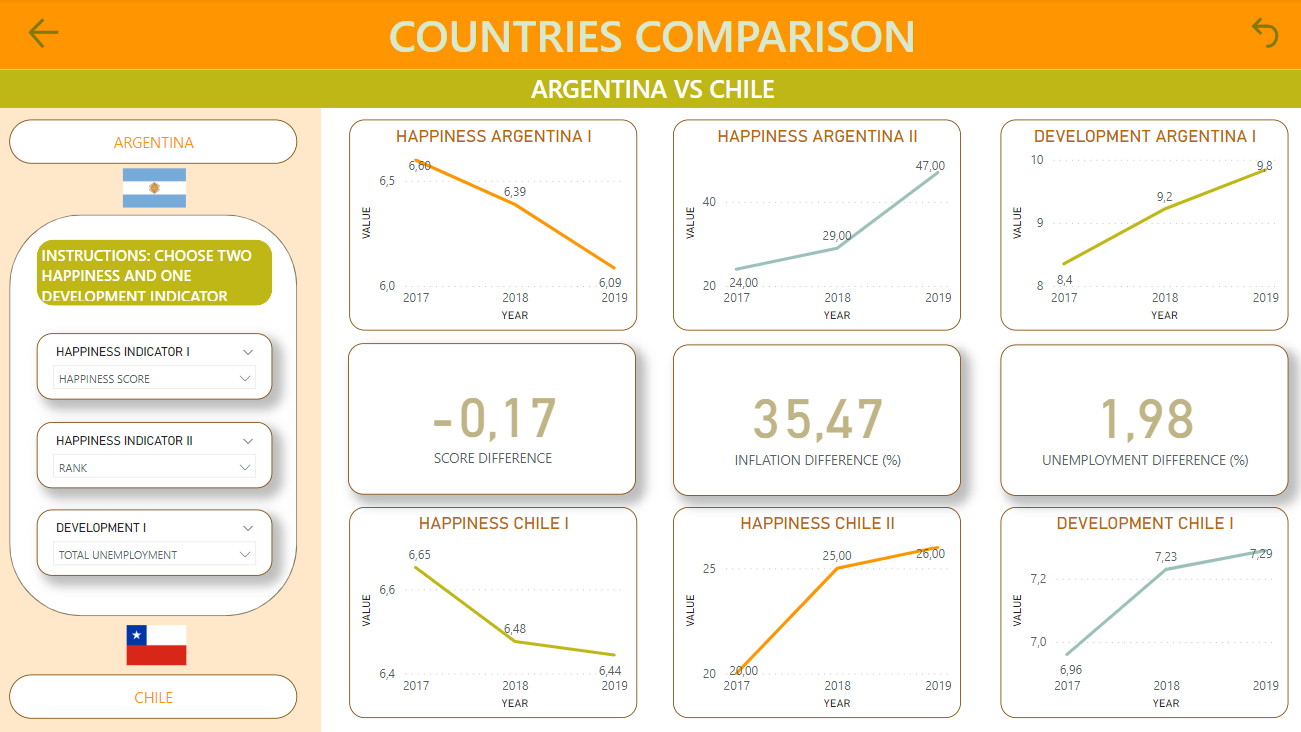

What the dashboard file says about the page in this screenshot:
{"tool":"powerbi","page":{"name":"COUNTRIES COMPARISON","canvas":[1280,720],"ordinal":6},"visuals":[{"type":"shape","box":[0,108.1,316.3,611.9],"z":0},{"type":"shape","box":[11.1,212.3,281.3,392.6],"z":1000},{"type":"slicer","fields":{"Values":["DEVELOPMENT_INDEX.COUNTRY"]},"box":[1103,162.1,109.7,73.1],"z":2000},{"type":"slicer","fields":{"Values":["DEVELOPMENT_INDEX.COUNTRY"]},"box":[1066.5,565.8,109.7,73.1],"z":3000},{"type":"slicer","fields":{"Values":["HAPPINESS_INDEX.COUNTRY"]},"box":[427.5,184.4,109.7,73.1],"z":4000},{"type":"slicer","fields":{"Values":["HAPPINESS_INDEX.COUNTRY"]},"box":[449.8,565.8,109.7,73.1],"z":5000},{"type":"shape","box":[0,0,1280.5,70.4],"z":6000},{"type":"shape","box":[0,70.4,1280.5,37.4],"z":7000},{"type":"shape","box":[11.1,119.2,281.3,42.9],"z":8000},{"type":"shape","box":[11.1,662.8,281.3,42.9],"z":9000},{"type":"lineChart","title":"HAPPINESS CHILE I","fields":{"Y":["Avg(HAPPINESS_INDEX.VALUE_HAPPINESS)"],"Category":["HAPPINESS_INDEX.YEAR"]},"box":[343.3,499.1,281.3,206.6],"z":10000},{"type":"lineChart","title":"HAPPINESS CHILE II","fields":{"Y":["Avg(HAPPINESS_INDEX.VALUE_HAPPINESS)"],"Category":["HAPPINESS_INDEX.YEAR"]},"box":[659.6,499.1,281.3,206.6],"z":11000},{"type":"lineChart","title":"HAPPINESS ARGENTINA I","fields":{"Y":["Avg(HAPPINESS_INDEX.VALUE_HAPPINESS)"],"Category":["HAPPINESS_INDEX.YEAR"]},"box":[343.3,119.2,281.3,206.6],"z":12000},{"type":"lineChart","title":"HAPPINESS ARGENTINA II","fields":{"Y":["Avg(HAPPINESS_INDEX.VALUE_HAPPINESS)"],"Category":["HAPPINESS_INDEX.YEAR"]},"box":[659.6,119.2,281.3,206.6],"z":13000},{"type":"lineChart","title":"DEVELOPMENT ARGENTINA I","fields":{"Y":["Avg(DEVELOPMENT_INDEX.VALUE_DEVELOPMENT)"],"Category":["DEVELOPMENT_INDEX.YEAR"]},"box":[980.7,119.2,281.3,206.6],"z":14000},{"type":"lineChart","title":"DEVELOPMENT CHILE I","fields":{"Y":["Avg(DEVELOPMENT_INDEX.VALUE_DEVELOPMENT)"],"Category":["DEVELOPMENT_INDEX.YEAR"]},"box":[980.7,499.1,281.3,206.6],"z":15000},{"type":"card","fields":{"Values":["HAPPINESS_INDEX.SCORE DIFFERENCE"]},"box":[341.7,338.5,281.3,147.8],"z":16000},{"type":"card","fields":{"Values":["DEVELOPMENT_INDEX.INFLATION DIFFERENCE"]},"box":[659.6,340.1,281.3,147.8],"z":17000},{"type":"card","fields":{"Values":["DEVELOPMENT_INDEX.UNEMPLOYMENT DIFFERENCE"]},"box":[980.7,340.1,281.3,147.8],"z":18000},{"type":"slicer","fields":{"Values":["DEVELOPMENT_INDEX.DEVELOPMENT_INDICATOR.DEVELOPMENT_INDICATOR"]},"box":[38.1,501.6,230.5,65.2],"z":19000},{"type":"slicer","fields":{"Values":["HAPPINESS_INDEX.HAPPINESS_INDICATOR.HAPPINESS_INDICATOR"]},"box":[38.1,415.8,230.5,65.2],"z":20000},{"type":"slicer","fields":{"Values":["HAPPINESS_INDEX.HAPPINESS_INDICATOR.HAPPINESS_INDICATOR"]},"box":[38.1,328.4,230.5,65.2],"z":21000},{"type":"shape","box":[38.1,237.8,230.5,65.2],"z":22000},{"type":"image","box":[117.6,149.4,71.5,74.7],"z":23000},{"type":"image","box":[120.8,604,68.3,60.4],"z":24000},{"type":"actionButton","box":[25.4,15.6,99.7,39.1],"z":25000},{"type":"actionButton","box":[1158.8,15.1,100.4,39.8],"z":26001}]}

Visuals, with their boxes in screenshot pixels (x1, y1, x2, y2), scaled from the page's 1280x720 canvas onto the 1301x732 screenshot:
shape: [0,110,321,731]
shape: [11,216,297,615]
slicer - DEVELOPMENT_INDEX.COUNTRY: [1121,165,1233,239]
slicer - DEVELOPMENT_INDEX.COUNTRY: [1084,575,1195,650]
slicer - HAPPINESS_INDEX.COUNTRY: [435,187,546,262]
slicer - HAPPINESS_INDEX.COUNTRY: [457,575,569,650]
shape: [0,0,1300,72]
shape: [0,72,1300,110]
shape: [11,121,297,165]
shape: [11,674,297,717]
"HAPPINESS CHILE I" lineChart: [349,507,635,717]
"HAPPINESS CHILE II" lineChart: [670,507,956,717]
"HAPPINESS ARGENTINA I" lineChart: [349,121,635,331]
"HAPPINESS ARGENTINA II" lineChart: [670,121,956,331]
"DEVELOPMENT ARGENTINA I" lineChart: [997,121,1283,331]
"DEVELOPMENT CHILE I" lineChart: [997,507,1283,717]
card - HAPPINESS_INDEX.SCORE DIFFERENCE: [347,344,633,494]
card - DEVELOPMENT_INDEX.INFLATION DIFFERENCE: [670,346,956,496]
card - DEVELOPMENT_INDEX.UNEMPLOYMENT DIFFERENCE: [997,346,1283,496]
slicer - DEVELOPMENT_INDEX.DEVELOPMENT_INDICATOR.DEVELOPMENT_INDICATOR: [39,510,273,576]
slicer - HAPPINESS_INDEX.HAPPINESS_INDICATOR.HAPPINESS_INDICATOR: [39,423,273,489]
slicer - HAPPINESS_INDEX.HAPPINESS_INDICATOR.HAPPINESS_INDICATOR: [39,334,273,400]
shape: [39,242,273,308]
image: [120,152,192,228]
image: [123,614,192,675]
actionButton: [26,16,127,56]
actionButton: [1178,15,1280,56]
